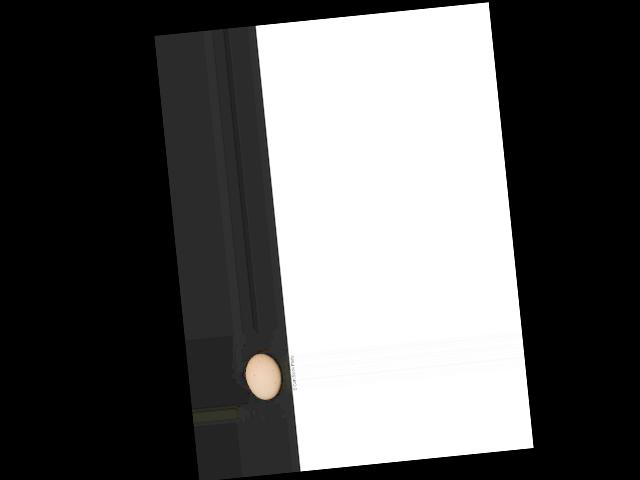egg: (244, 351, 283, 401)
